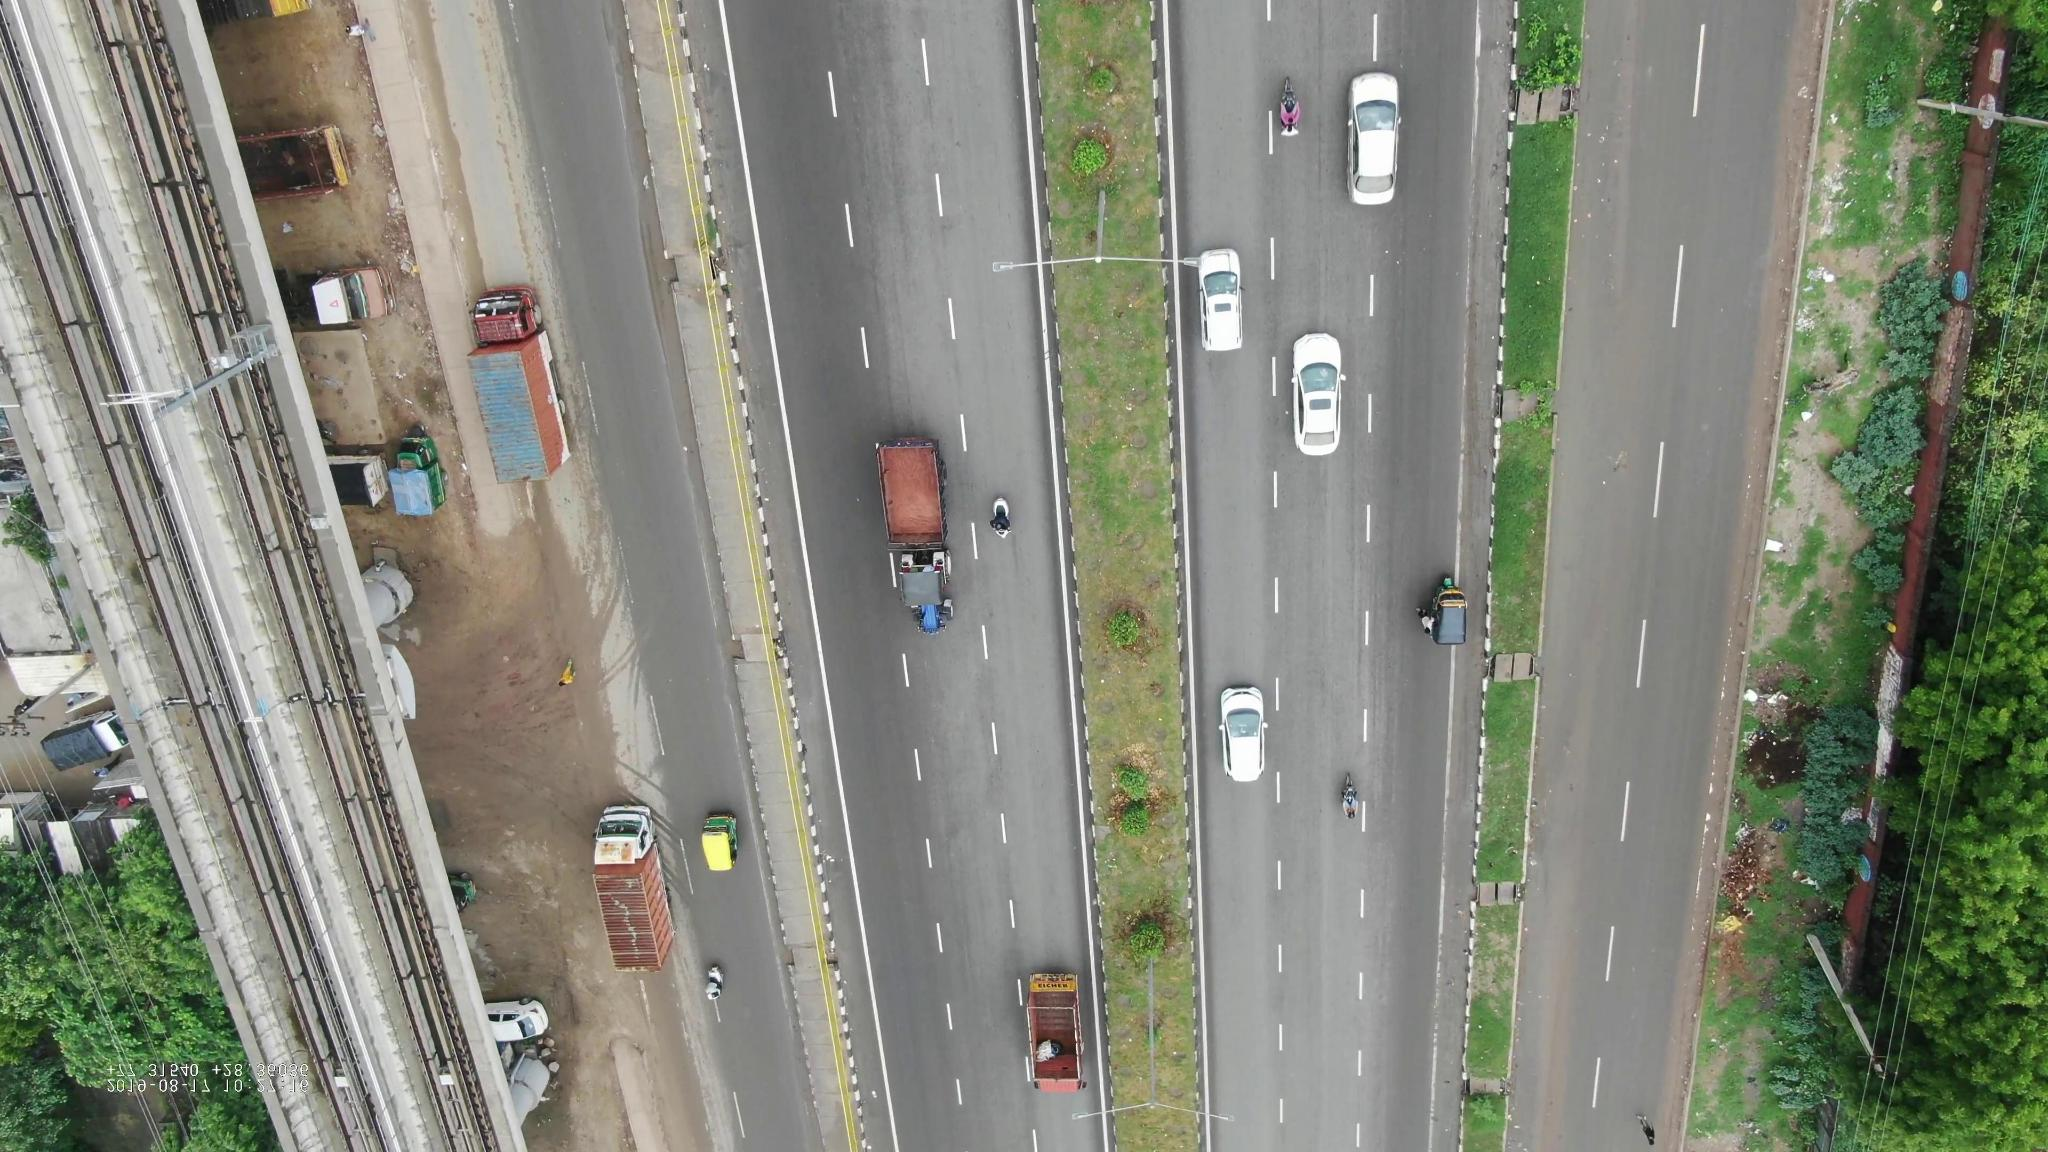Road_side_garbage: (1722, 693, 1838, 931)
